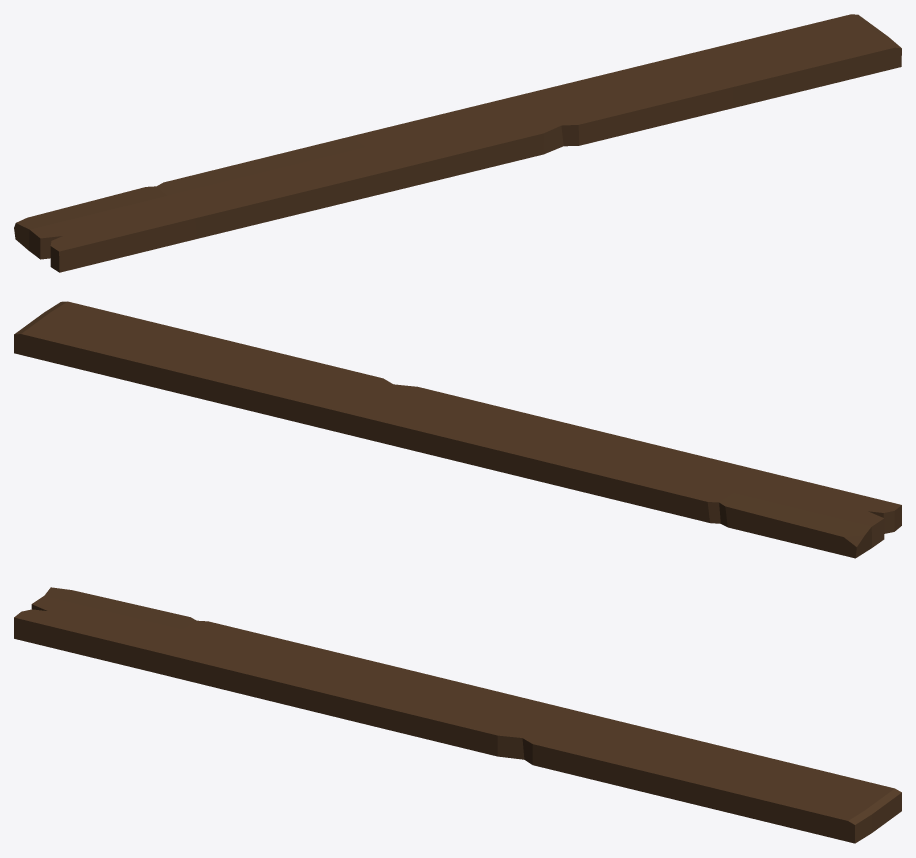
Rendered from Plank.fbx.
The picture shows the model from 3 angles, top to bottom: view 1: azimuth 30°, elevation 25°; view 2: azimuth 150°, elevation 25°; view 3: azimuth 330°, elevation 25°; orthographic projection.
Parts seen in each view (by area): view 1: Plank; view 2: Plank; view 3: Plank.
Part boxes in pixels (<box>): Plank: <box>14,14,901,272</box>; Plank: <box>14,301,901,558</box>; Plank: <box>14,587,901,843</box>.
Bounding box in the file's own units: 363 × 8.68 × 33.68.
